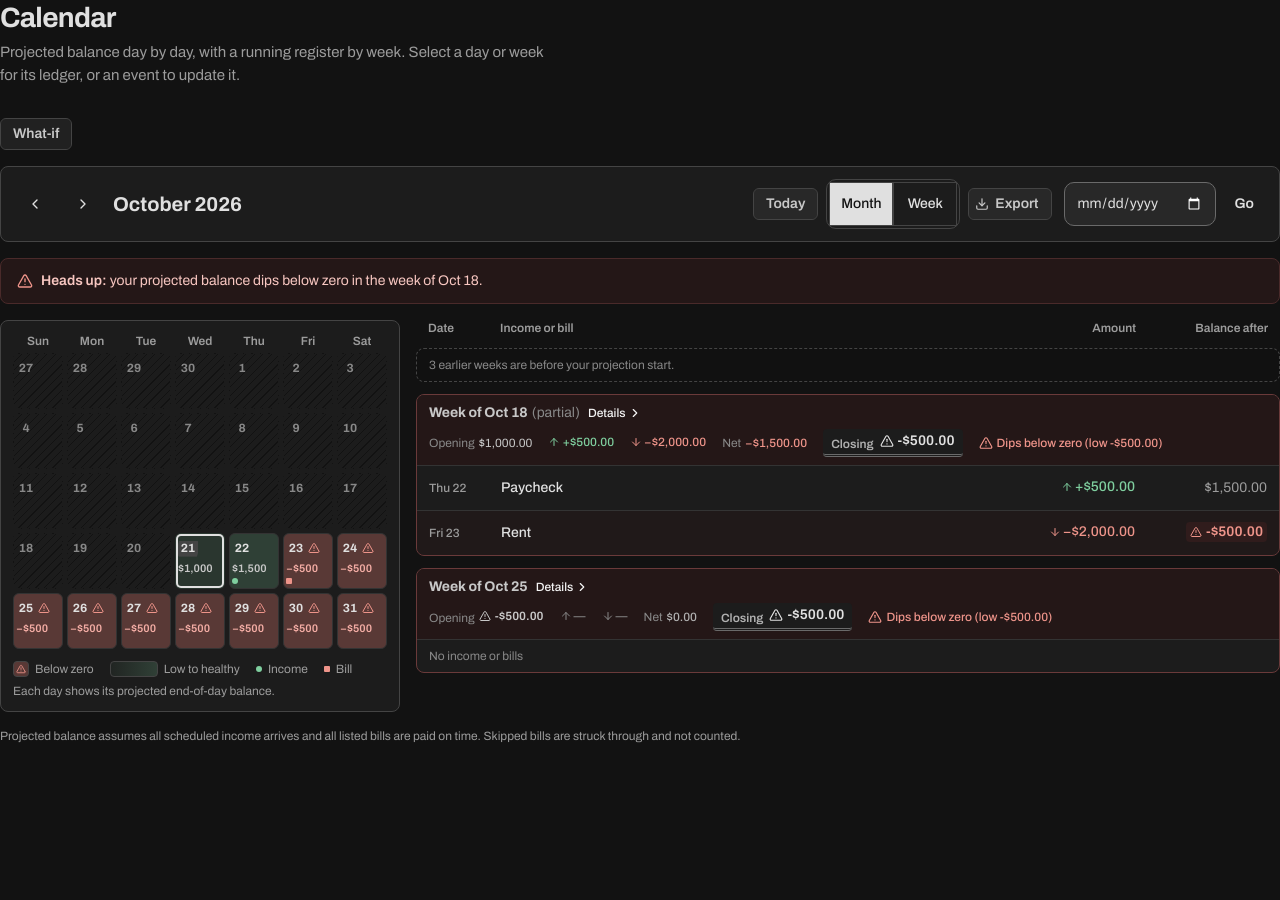
Test: calendar heatmap and register › opens the week ledger from a week header and the event dialog from a row
Click the button with aria-label "Week of Oct 18 (partial, covers Oct 21 – Oct 24, 2026): open". click: (848, 430)
box: [417, 395, 1279, 465]
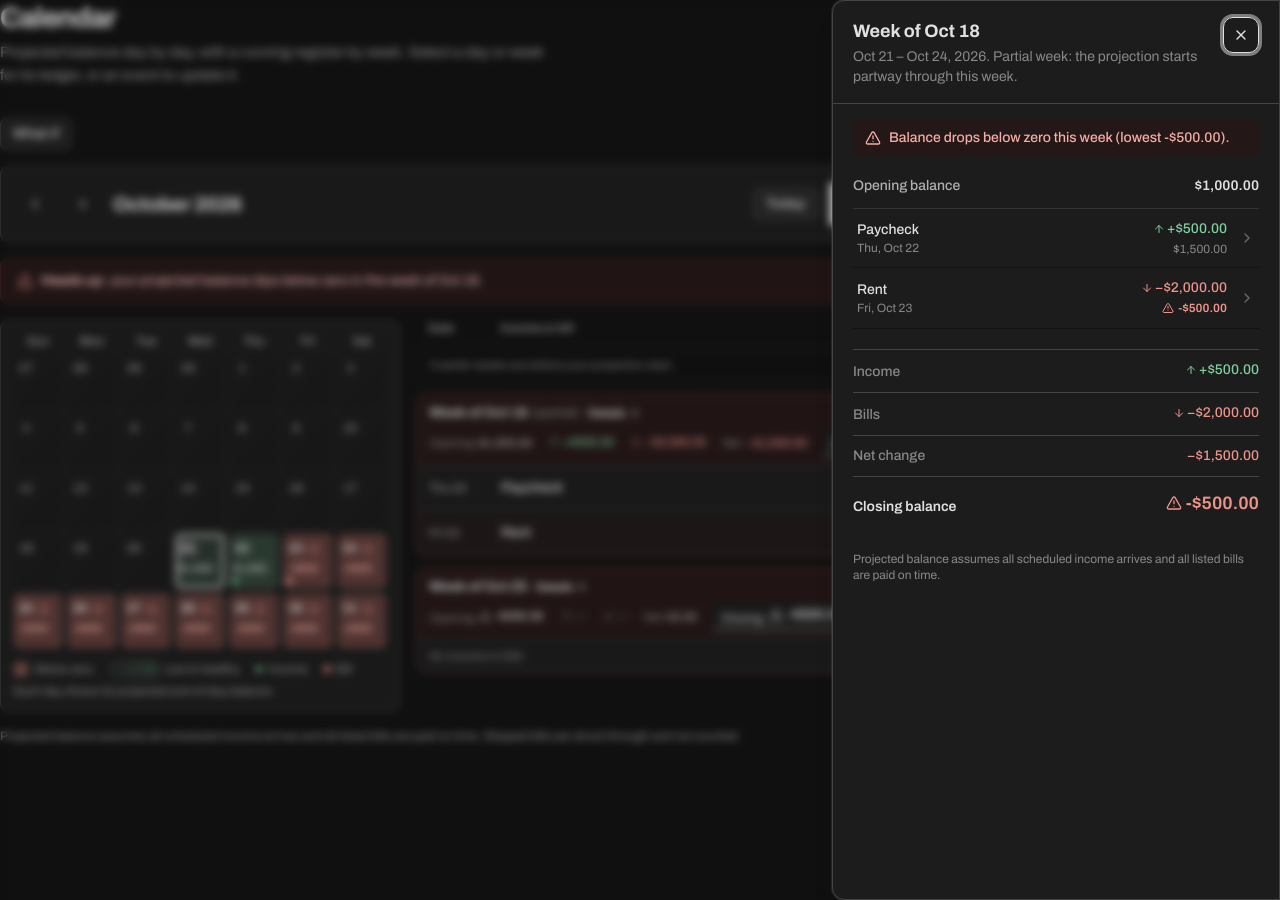
Press Escape
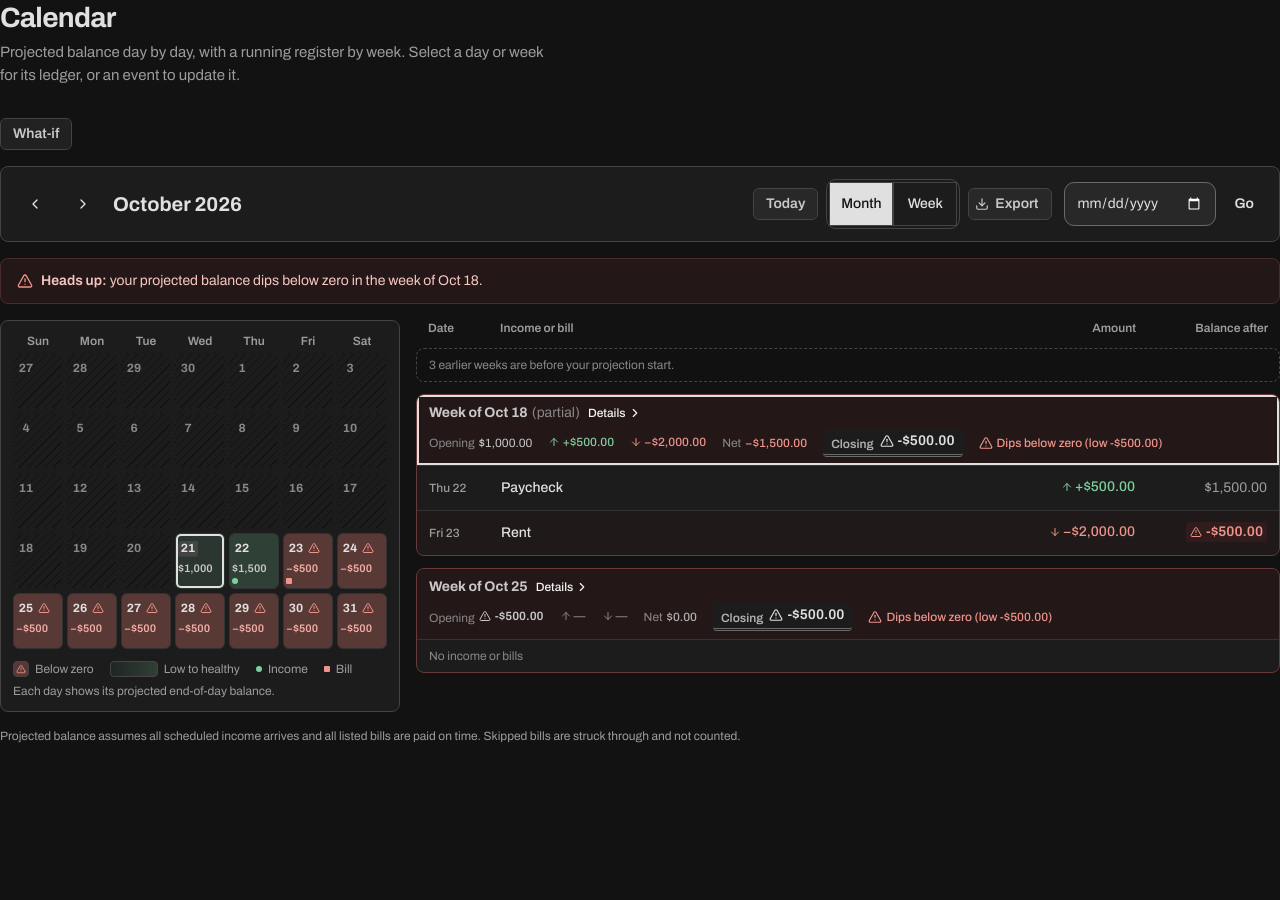
Expected: the dialog with test id "week-detail" is gone
Click the button "Thu 22 Paycheck +$500.00 $1,500.00". click: (448, 488)
box: [417, 466, 1279, 510]
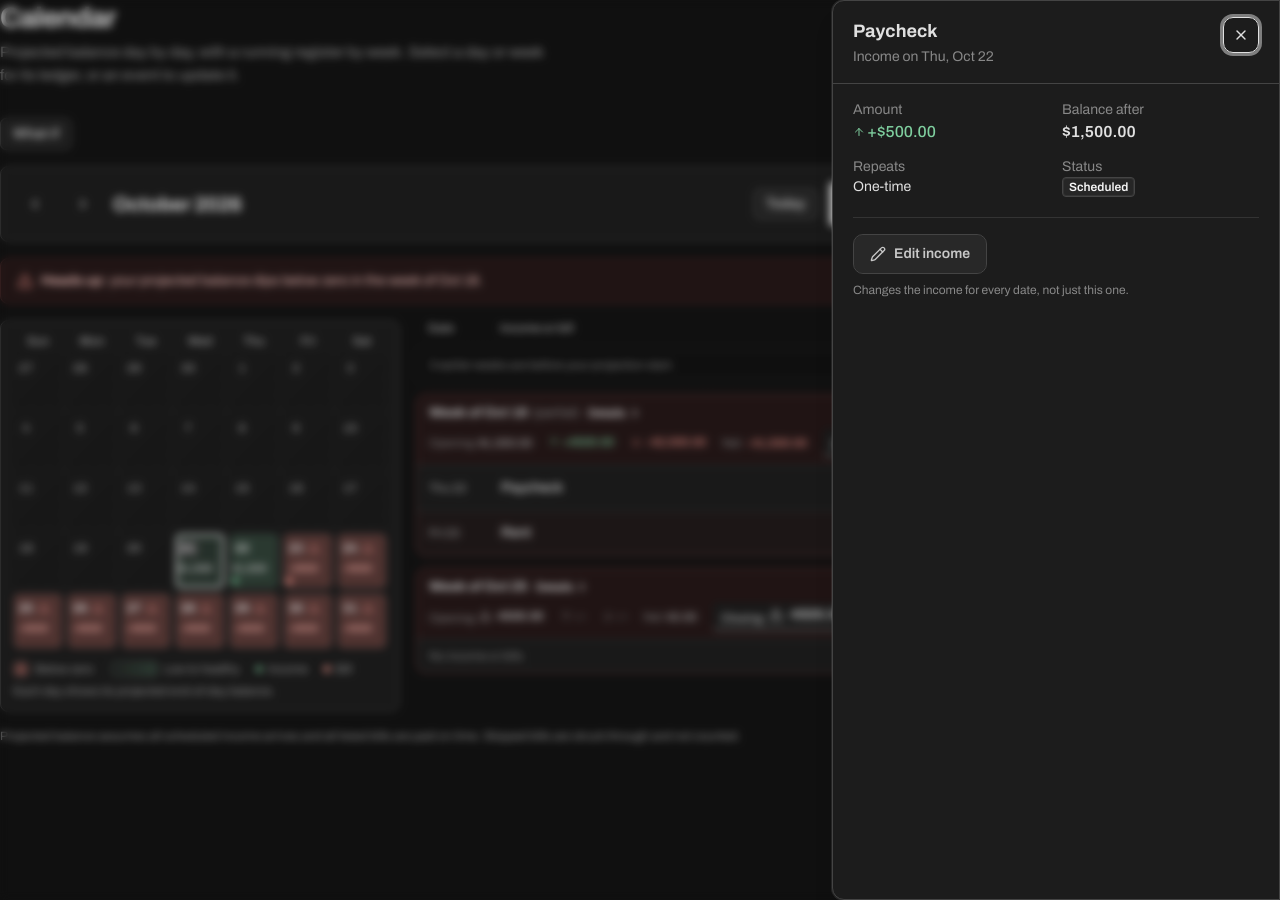
Expected: the dialog with test id "event-detail" is shown, [832, 0, 1279, 899]
